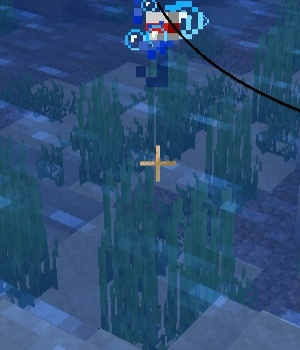up: (131, 4, 184, 86)
